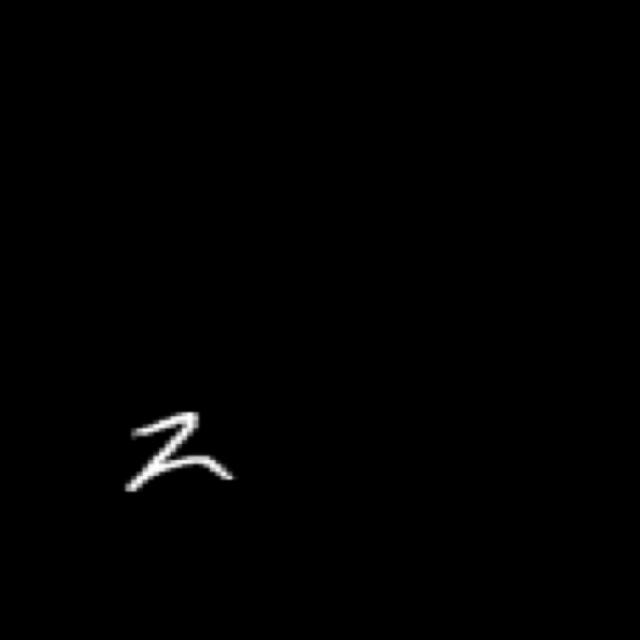two -2-: (120, 406, 256, 503)
